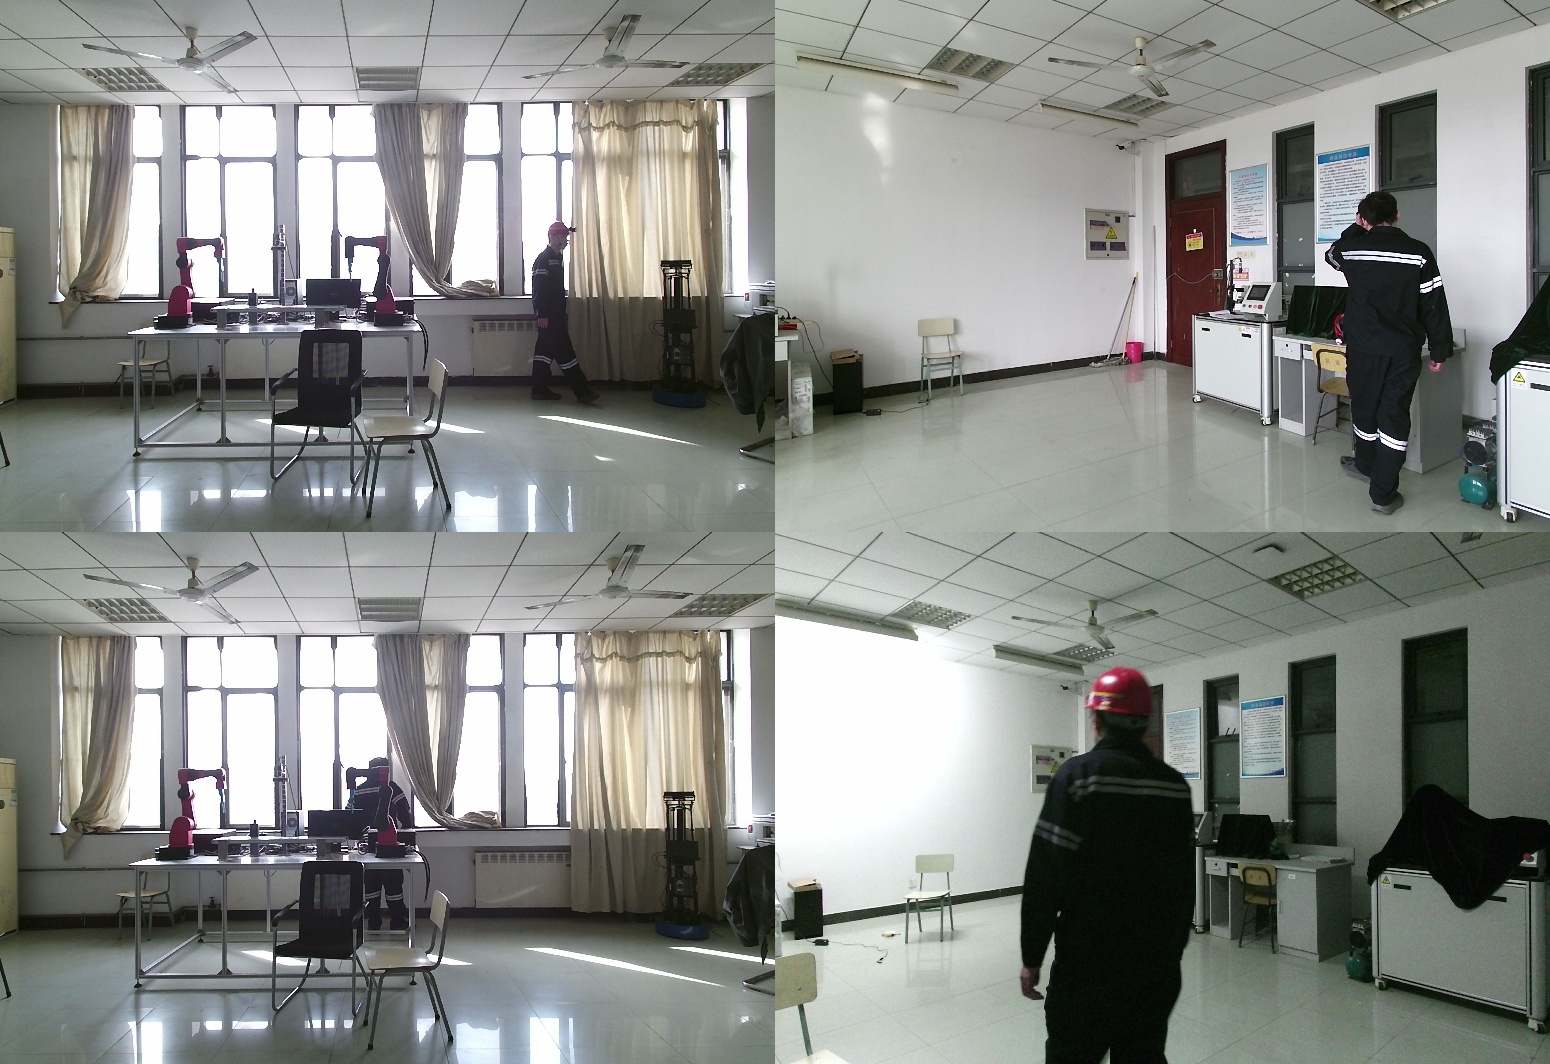person: (1021, 667, 1217, 1064), (1334, 191, 1469, 511), (345, 758, 418, 951), (534, 224, 602, 412)
